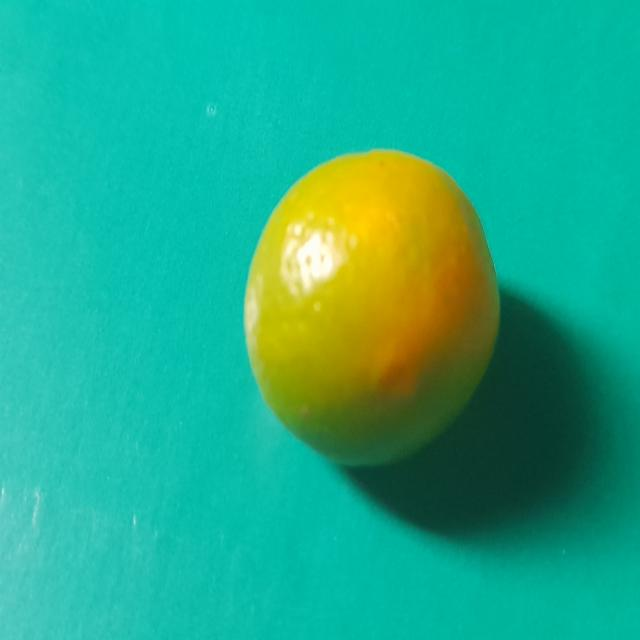greening: (244, 148, 499, 481)
